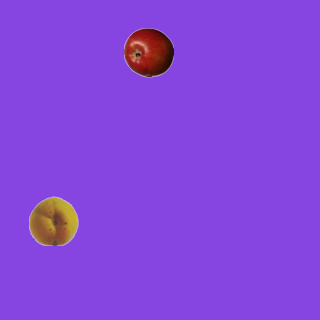Apple Braeburn: (123, 27, 173, 77)
Peach 2: (28, 195, 78, 245)
